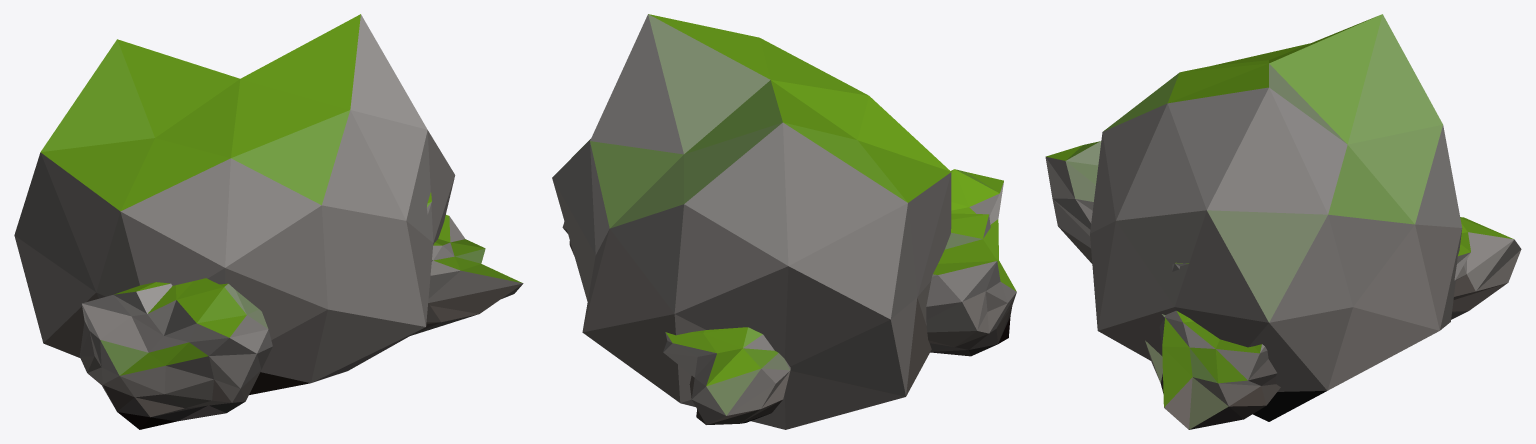
Rendered from batu_boulder_limestone_158919.glb.
The picture shows the model from 3 angles, left to right: view 1: azimuth 30°, elevation 25°; view 2: azimuth 150°, elevation 25°; view 3: azimuth 270°, elevation 25°; orthographic projection. The views are drawn at different scales.
Parts seen in each view (by area): view 1: Batu_Jeram_Sungai; view 2: Batu_Jeram_Sungai; view 3: Batu_Jeram_Sungai.
Boxes of the visible parts, <box> form: Batu_Jeram_Sungai: <box>14,14,523,429</box>; Batu_Jeram_Sungai: <box>552,14,1016,429</box>; Batu_Jeram_Sungai: <box>1045,14,1521,429</box>.
Bounding box in the file's own units: 6.63 × 4.66 × 6.28.
